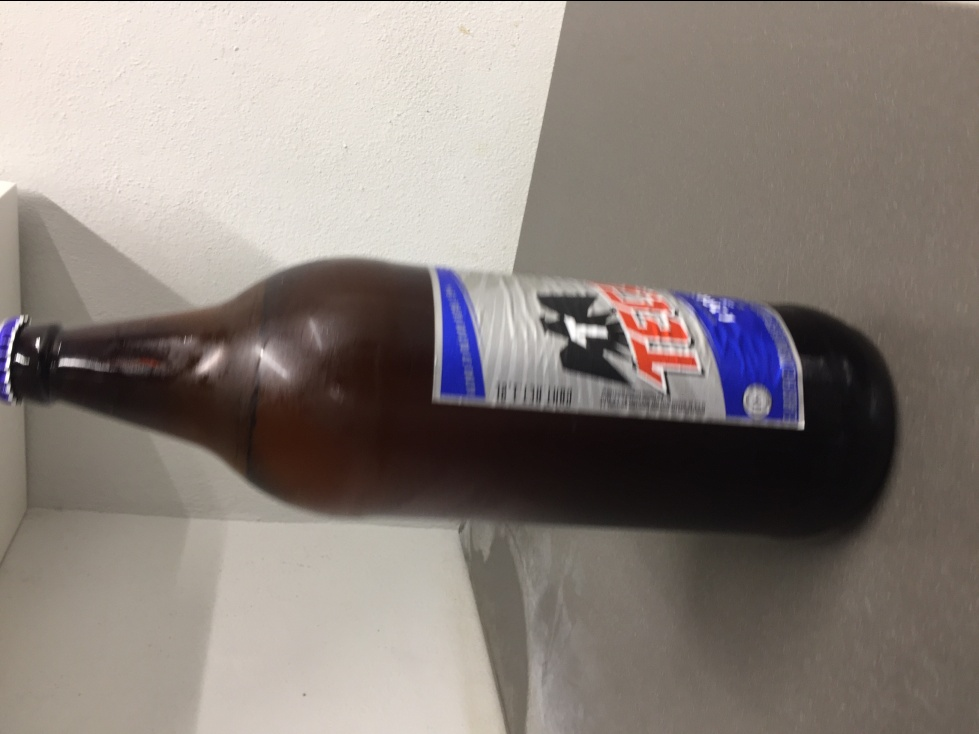tecateC: (6, 253, 904, 540)
